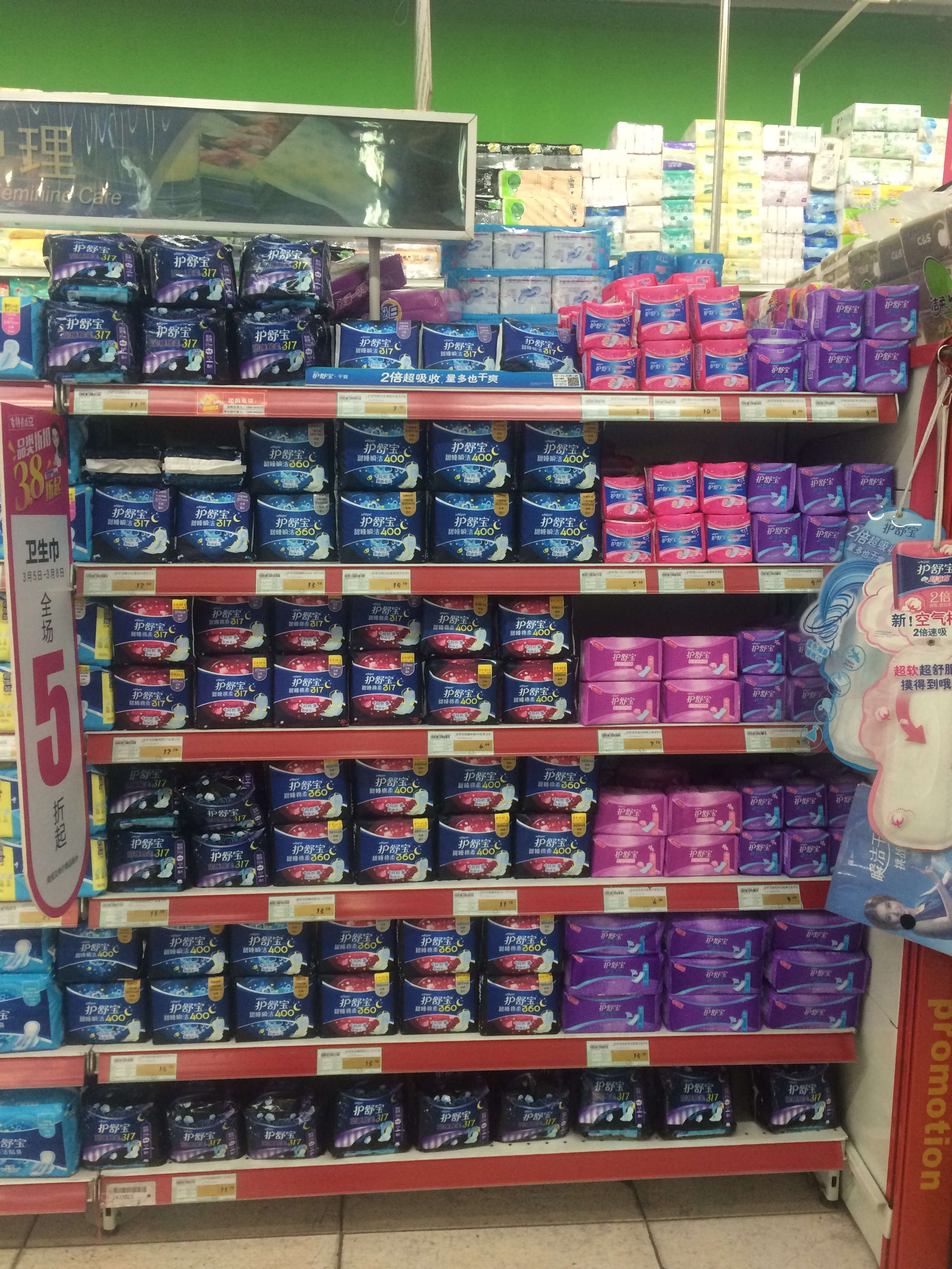Box: (47, 304, 133, 382), (82, 1090, 160, 1170), (430, 495, 515, 567), (336, 494, 422, 565), (151, 229, 234, 300), (146, 310, 225, 382), (432, 418, 512, 488), (1, 1092, 66, 1178), (232, 977, 315, 1044), (520, 494, 598, 565), (53, 231, 135, 298), (521, 419, 599, 488), (331, 1084, 406, 1155), (411, 1084, 489, 1152), (196, 656, 271, 726), (170, 1092, 240, 1167), (91, 495, 170, 561), (338, 424, 422, 486), (249, 1088, 317, 1163), (436, 750, 518, 812), (494, 1082, 570, 1148), (666, 1072, 743, 1137), (318, 976, 396, 1040), (236, 318, 313, 382), (276, 659, 344, 731), (183, 491, 249, 565), (184, 763, 260, 827), (247, 238, 323, 302), (335, 320, 417, 379), (359, 821, 432, 887), (89, 420, 161, 486), (766, 1066, 840, 1130), (441, 814, 513, 879), (402, 973, 480, 1033), (267, 759, 349, 816), (274, 825, 354, 883), (351, 655, 418, 724), (119, 595, 190, 660), (154, 984, 228, 1044), (518, 815, 588, 878), (254, 503, 327, 563), (260, 424, 326, 490), (505, 322, 572, 386), (501, 661, 573, 720), (119, 670, 186, 733), (422, 325, 496, 382), (359, 756, 429, 816), (73, 983, 144, 1042), (578, 627, 660, 678), (168, 424, 237, 483), (430, 661, 496, 722), (430, 593, 494, 655), (527, 751, 599, 806), (486, 918, 558, 973), (589, 1070, 648, 1137), (188, 837, 264, 889), (236, 923, 312, 975), (62, 928, 141, 978), (671, 916, 764, 958), (483, 980, 556, 1033), (1, 977, 55, 1048), (114, 840, 187, 892), (402, 923, 480, 971), (150, 927, 223, 978), (112, 769, 173, 829), (505, 595, 565, 655), (195, 598, 265, 649), (668, 999, 762, 1035), (276, 595, 340, 647), (779, 957, 871, 993), (324, 923, 395, 969), (583, 684, 664, 724), (567, 1001, 656, 1037), (766, 998, 863, 1031), (664, 632, 736, 676), (593, 838, 664, 881), (355, 598, 419, 645), (564, 920, 660, 951), (666, 681, 738, 722), (643, 277, 691, 338), (571, 960, 659, 993), (668, 836, 735, 878), (675, 789, 740, 830), (759, 333, 799, 397), (872, 284, 921, 336), (668, 963, 759, 991), (0, 920, 46, 975), (646, 344, 697, 393), (698, 285, 746, 336), (371, 286, 447, 318), (808, 343, 856, 393), (703, 461, 750, 512), (656, 462, 702, 514), (580, 303, 638, 344), (779, 918, 855, 949), (700, 343, 749, 391), (810, 288, 859, 336), (583, 351, 642, 390), (608, 470, 653, 521), (801, 461, 845, 512), (503, 171, 582, 199), (708, 517, 754, 563), (547, 228, 604, 265), (865, 341, 907, 391), (453, 276, 501, 318), (754, 461, 795, 510), (503, 278, 556, 315), (444, 232, 497, 269), (505, 203, 585, 227), (739, 833, 783, 876), (757, 516, 797, 563), (597, 807, 666, 834), (606, 525, 655, 563), (660, 518, 703, 561), (852, 462, 889, 510), (741, 628, 782, 671), (788, 833, 831, 872), (805, 517, 841, 563), (790, 631, 824, 676), (785, 786, 822, 827), (744, 785, 782, 823), (746, 679, 780, 720), (501, 236, 543, 269), (786, 684, 822, 718), (558, 276, 602, 302)
